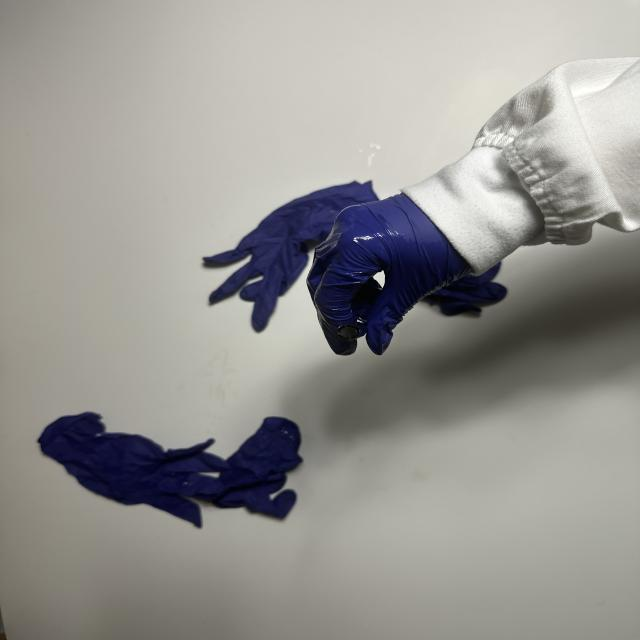gloves_contaminated: (308, 195, 472, 354)
